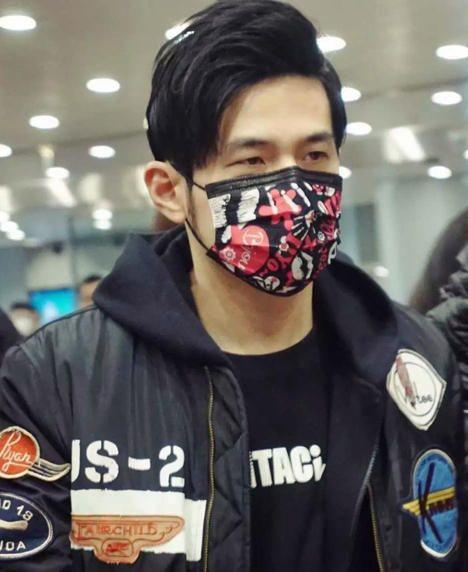OK: (194, 120, 350, 291)
